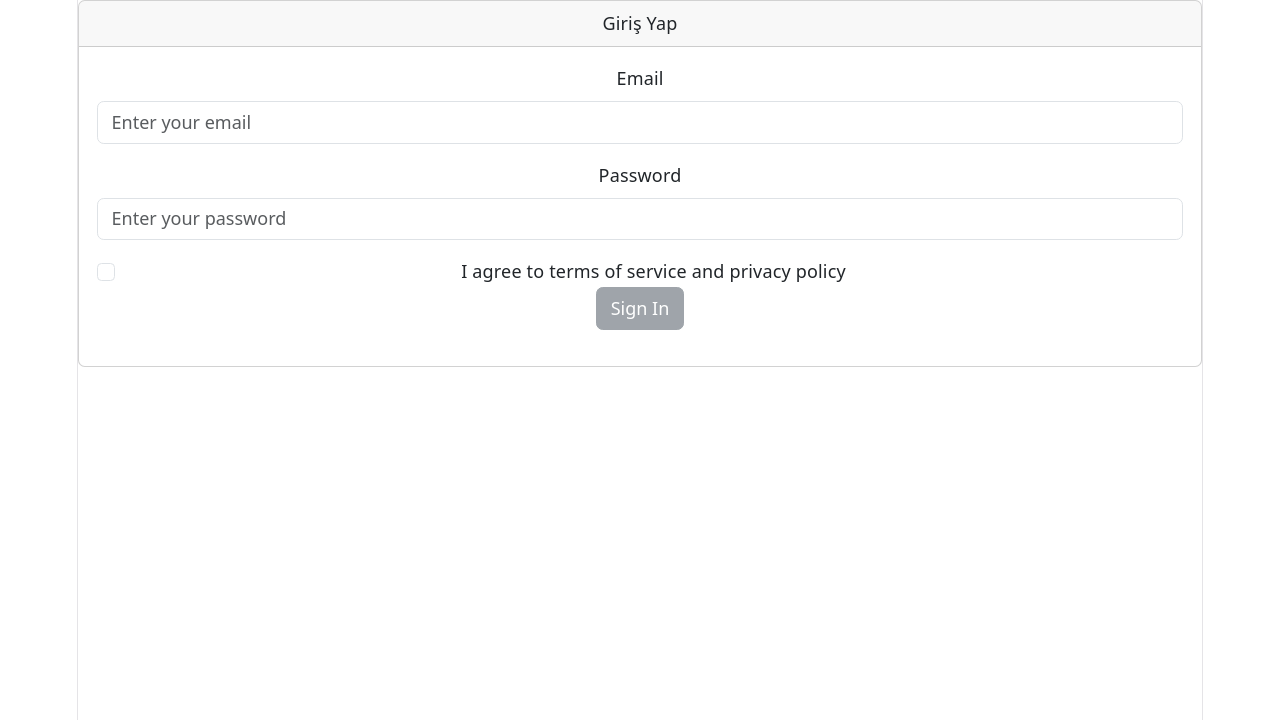
Scenario: Login Form › should be an email error message, and the button and the password should be disabled
In the field with test id "input-email": (640, 123) [97,101,1183,144], type "ihsansahin777"
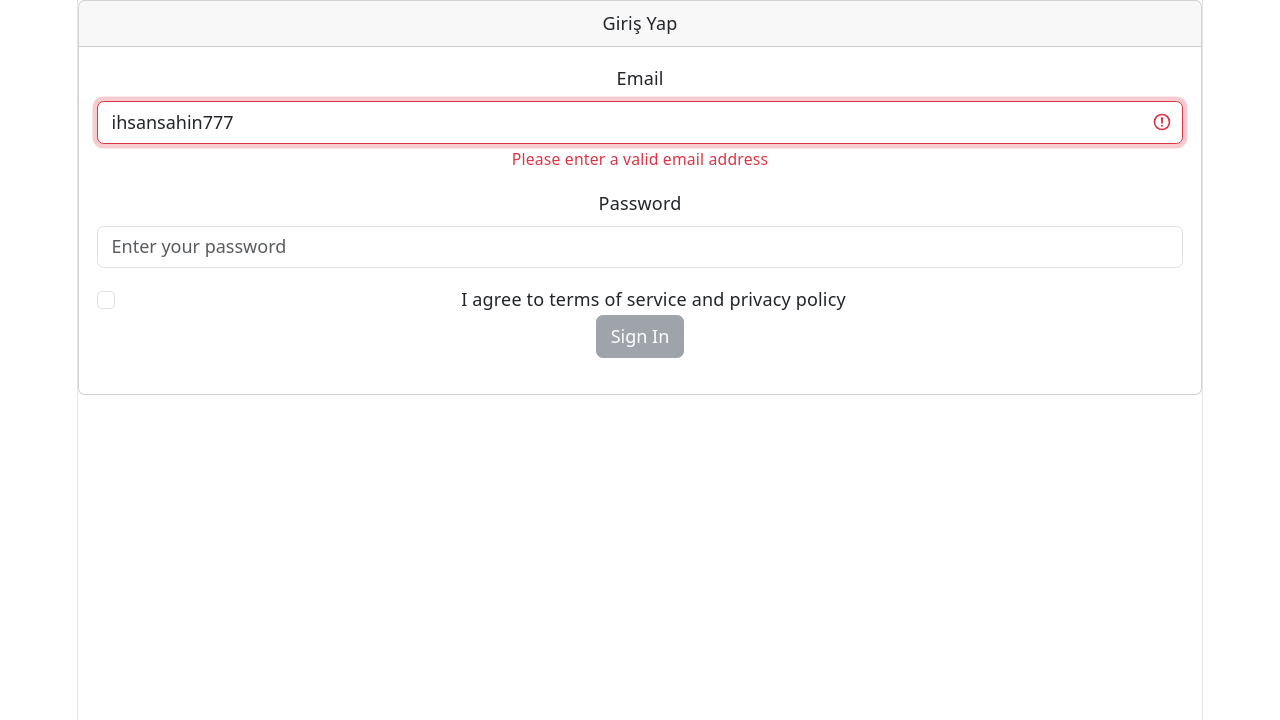
In the password field with test id "input-password": (640, 248) [97,226,1183,269], type "1321asas"
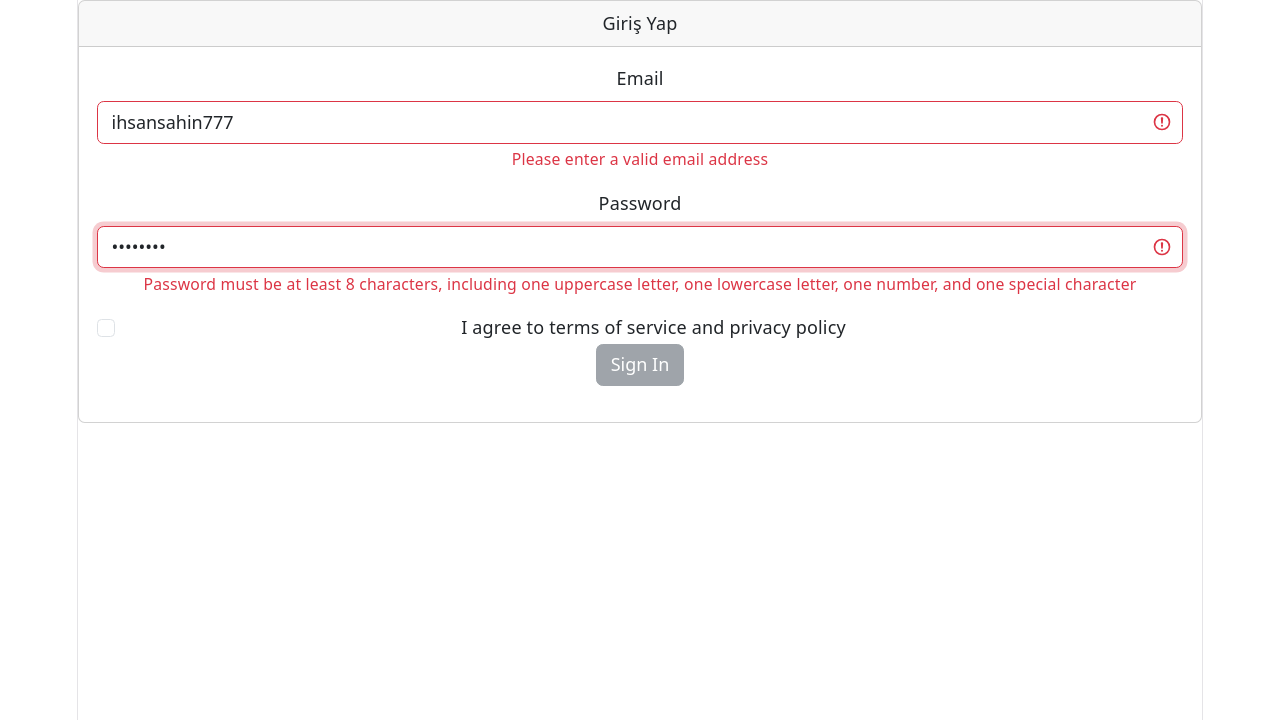
Expected: the text "Please enter a valid email address" is shown, [512,148,768,170]
Expected: the number of elements with test id "error" is 2, [512,148,768,170]; [97,273,1183,296]
Expected: the text "at least 8 characters" is shown, [144,273,1137,295]
